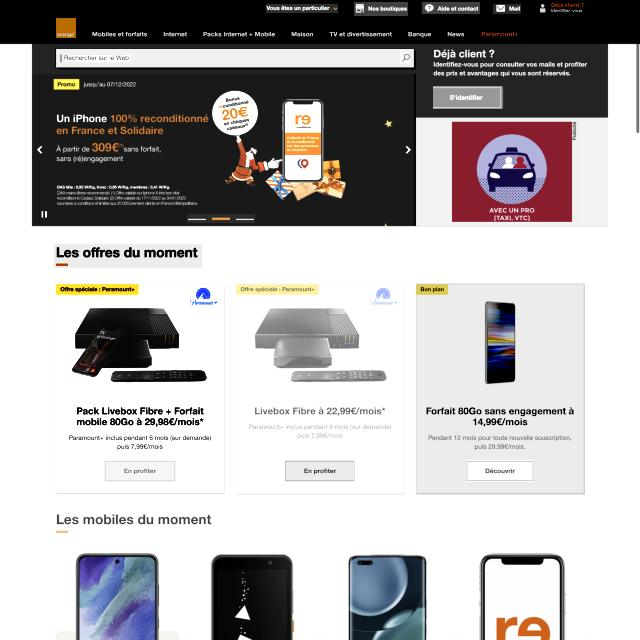CheckBox: (434, 86, 504, 109), (104, 460, 176, 482), (285, 460, 354, 482), (466, 460, 534, 482), (538, 0, 588, 16), (354, 2, 408, 16), (422, 2, 480, 14), (493, 4, 521, 14)
CheckedTextView: (55, 48, 415, 68)
ImageView: (452, 121, 580, 223)
Spinner: (416, 283, 585, 495), (56, 284, 225, 495), (236, 284, 405, 494)
alert: (266, 4, 338, 13)
bag: (0, 0, 636, 44)
breadcrumbs: (53, 511, 215, 539), (54, 244, 202, 268)
card: (32, 74, 414, 226)
carousel: (400, 52, 410, 64)
date picker: (54, 17, 76, 40)
decoration: (90, 29, 522, 38)
dropdown: (187, 214, 255, 223)
footer: (64, 55, 130, 62)
